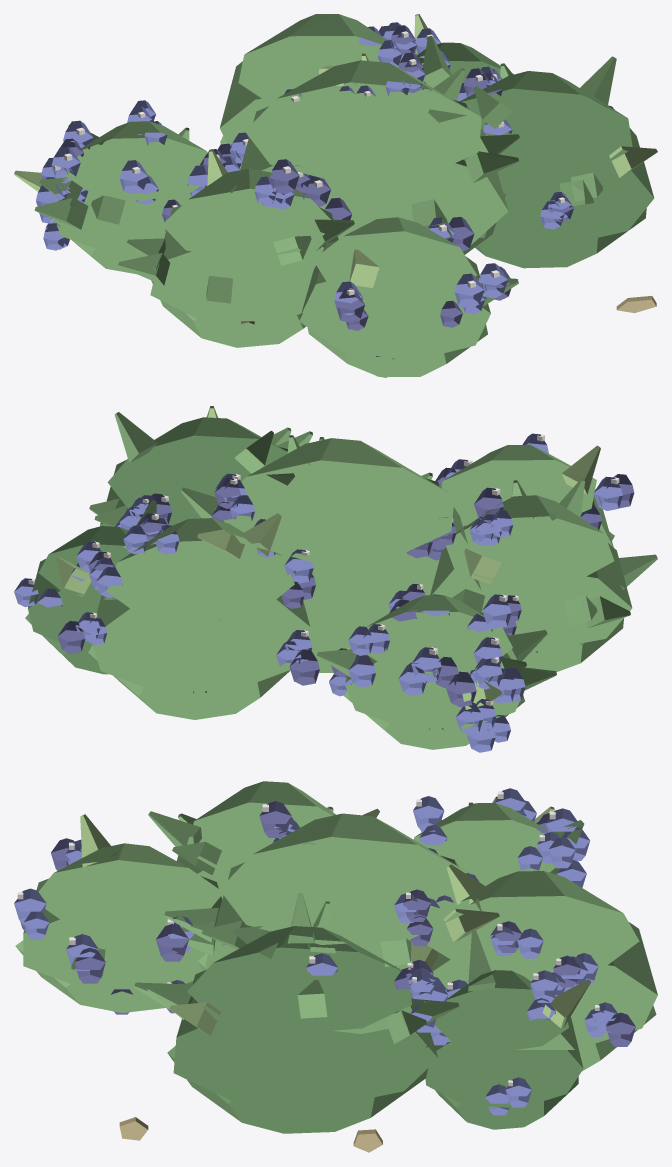
File: berry_bush_3.glb
3 views of the same model, one above another, from view 1: azimuth 30°, elevation 25°; view 2: azimuth 150°, elevation 25°; view 3: azimuth 270°, elevation 25° (orthographic). The views are drawn at different scales.
Visible parts, largest first — view 1: Leaves#3, Leaves#9, Leaves#5, Leaves#6, Leaves#15, Leaves#8, Leaves#2, Leaves#14, Leaves#12, Leaves#21, Leaves#20, Leaves#7 (+23 smaller); view 2: Leaves#3, Leaves#11, Leaves#12, Leaves#2, Leaves#6, Leaves#9, Leaves#5, Leaves#21, Leaves#15, Leaves#20, Leaves#10, Leaves#17 (+19 smaller); view 3: Leaves#3, Leaves#8, Leaves#9, Leaves#12, Leaves#15, Leaves#14, Leaves#17, Leaves#18, Leaves#21, Leaves#6, Leaves#11, Leaves#7 (+23 smaller).
Boxes of the visible parts, x1,y1,x2,y2 form: Leaves#3: (245,60,481,182); Leaves#9: (459,71,632,176); Leaves#5: (150,205,338,321); Leaves#6: (162,168,330,260); Leaves#15: (313,217,476,303); Leaves#8: (479,105,654,246); Leaves#2: (240,100,508,258); Leaves#14: (299,241,490,360); Leaves#12: (238,14,424,104); Leaves#21: (65,121,207,200); Leaves#20: (54,191,191,252); Leaves#7: (475,208,646,268); Leaves#3: (215,438,454,562); Leaves#11: (92,571,309,691); Leaves#12: (106,518,294,622); Leaves#2: (226,478,481,646); Leaves#6: (446,495,614,585); Leaves#9: (107,417,287,522); Leaves#5: (430,525,632,651); Leaves#21: (366,595,512,675); Leaves#15: (441,444,596,524); Leaves#20: (345,632,519,728); Leaves#10: (88,645,290,719); Leaves#17: (27,559,100,650); Leaves#3: (219,813,469,944); Leaves#8: (173,966,438,1107); Leaves#9: (187,926,411,1034); Leaves#12: (427,871,639,976); Leaves#15: (38,843,222,932); Leaves#14: (23,876,221,989); Leaves#17: (425,1017,583,1108); Leaves#18: (434,970,568,1052); Leaves#21: (413,803,555,885); Leaves#6: (187,781,335,875); Leaves#11: (431,922,657,1049); Leaves#7: (167,1046,427,1133).
Size of the model in its own units: 2.1 by 0.759 by 2.1.
